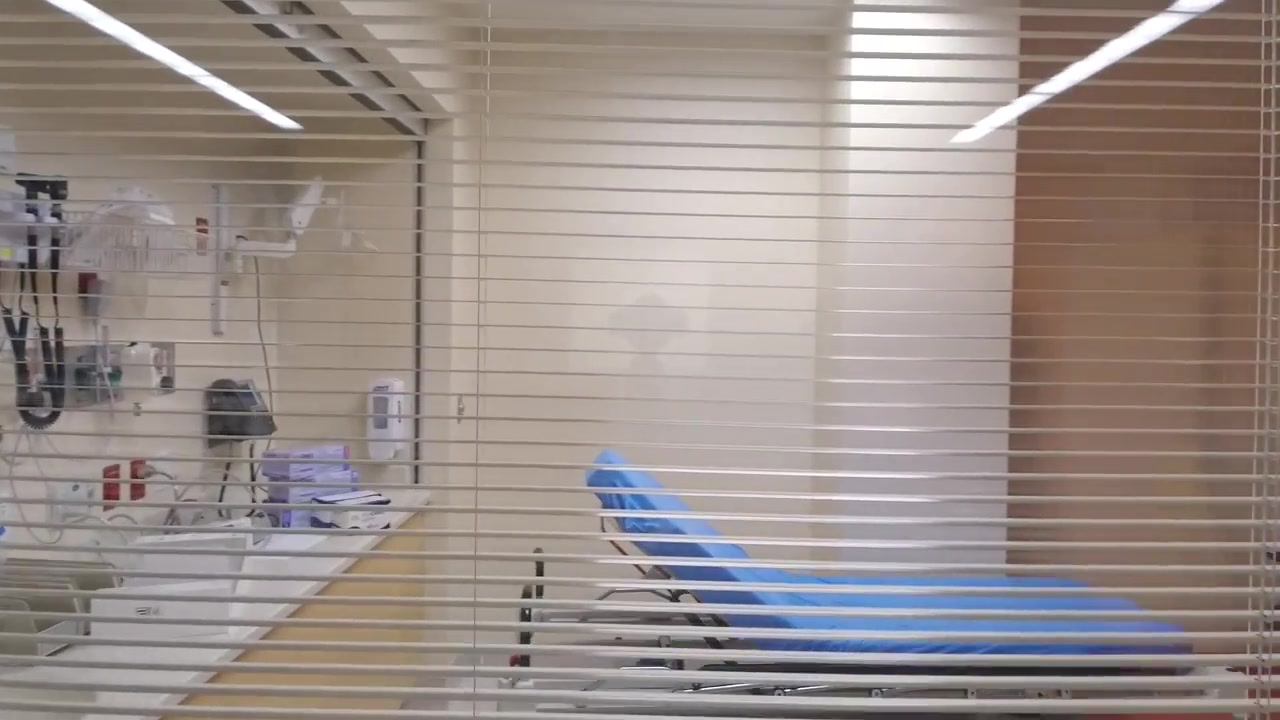countertop: (1, 490, 432, 717)
dispenser: (206, 378, 276, 442), (368, 379, 406, 466)
exam_table: (500, 448, 1192, 720)
